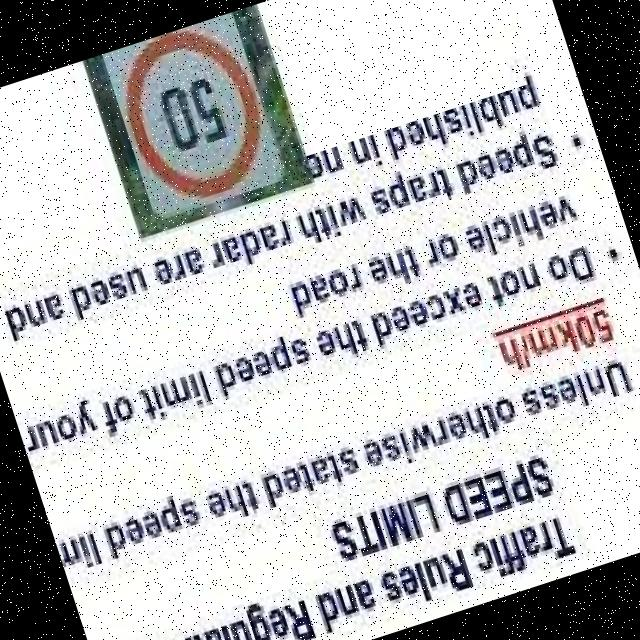speed_limit_50: (107, 15, 282, 218)
